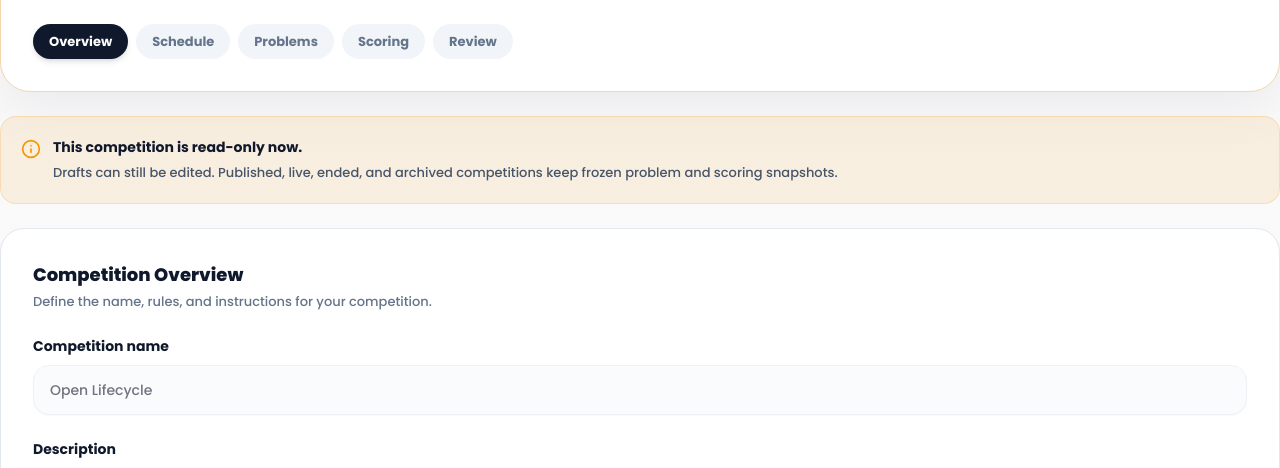
Scenario: CompetitionWizard lifecycle error and sync behavior › closes start confirmation and surfaces error when start request fails
What coordinates should you click on to do the following:
click the button "Review"
I would click on:
 (473, 41)
Its box is [433, 24, 513, 59].
(page scrolled)
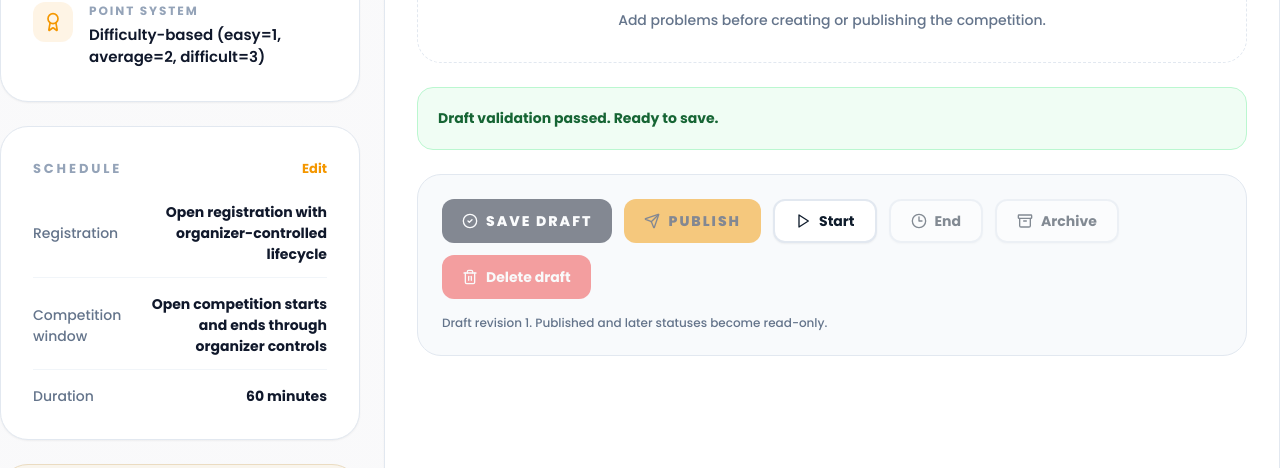
What coordinates should you click on to do the following:
click the button "Start"
I would click on:
 (825, 221)
Its box is [773, 199, 876, 243].
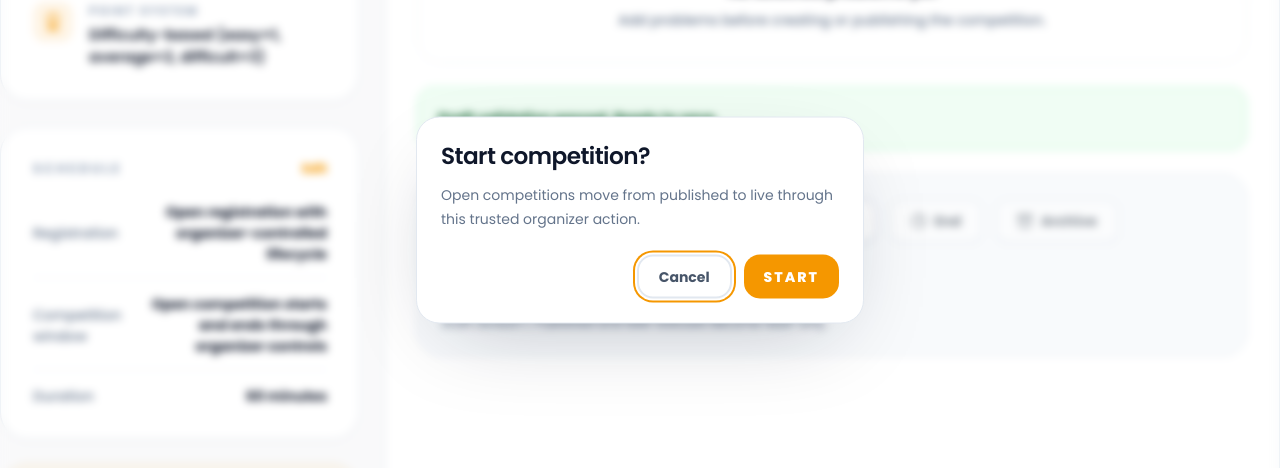
What coordinates should you click on to do the following:
click the button "Start"
I would click on:
 (791, 276)
Its box is [744, 254, 839, 298].
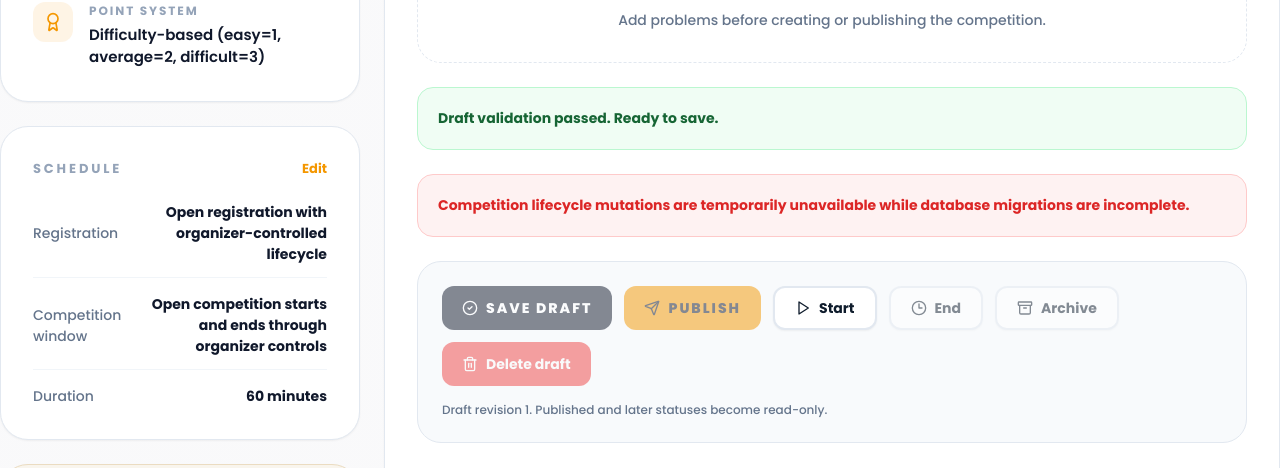
Now the heading "Start competition?" is gone
Now the text "Competition lifecycle mutations are temporarily unavailable while database migrations are incomplete." is shown, box [438, 195, 1190, 215]
